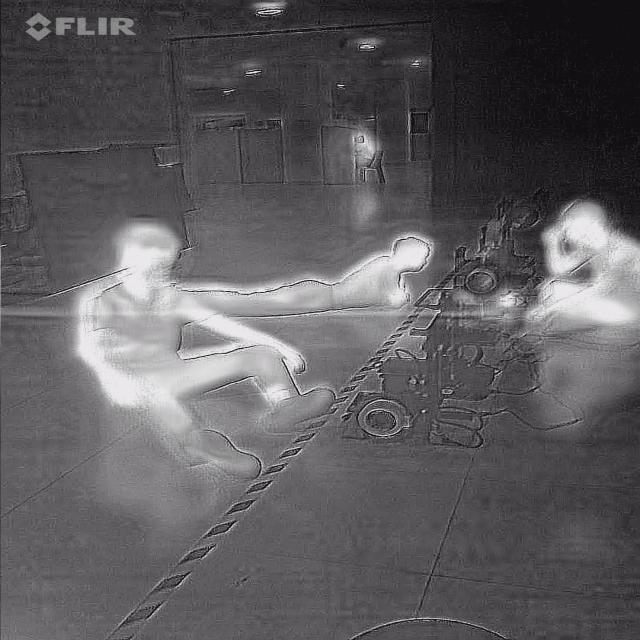Victim: (68, 219, 342, 477), (156, 225, 450, 320), (526, 186, 640, 342)
